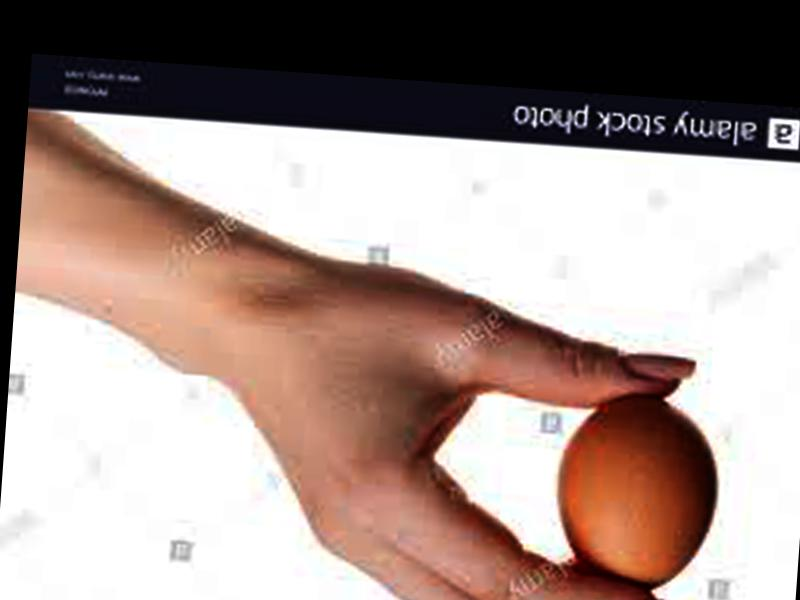Eggs: (544, 390, 724, 593)
